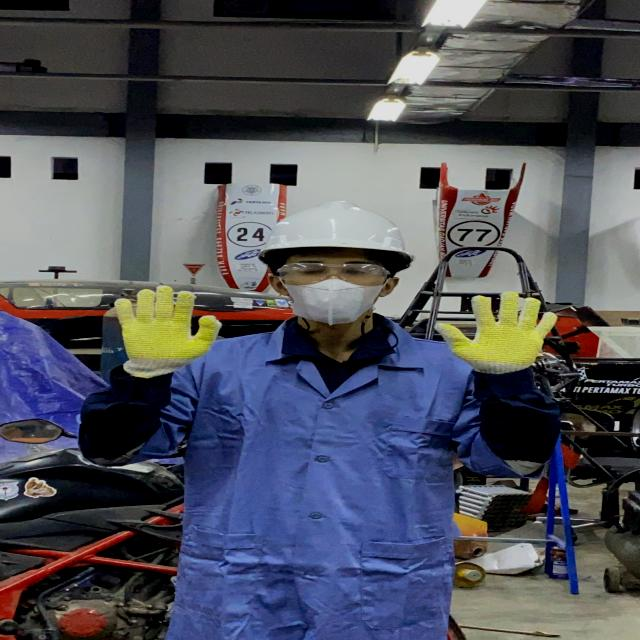face_mask: (270, 260, 390, 326)
glasses: (267, 259, 398, 286)
hand_glove: (426, 288, 563, 380), (98, 281, 227, 376)
head_helmet: (251, 198, 413, 262)
person: (72, 198, 579, 640)
